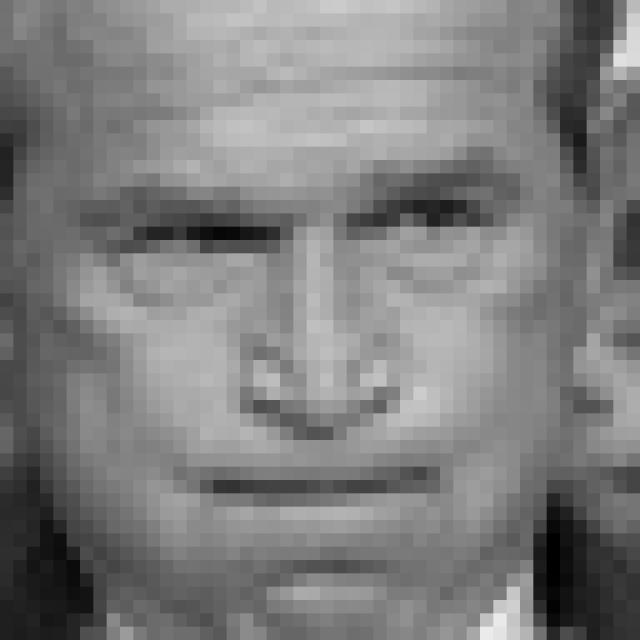disgust: (83, 148, 539, 618)
